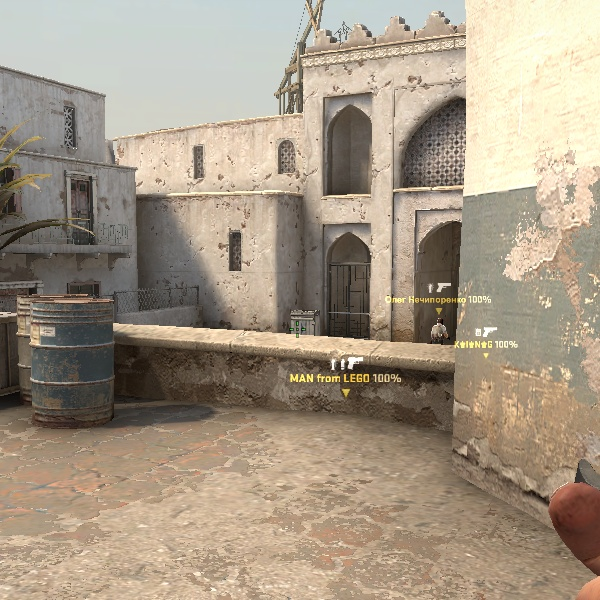t_body: (431, 317, 450, 344)
t_head: (436, 317, 444, 326)
